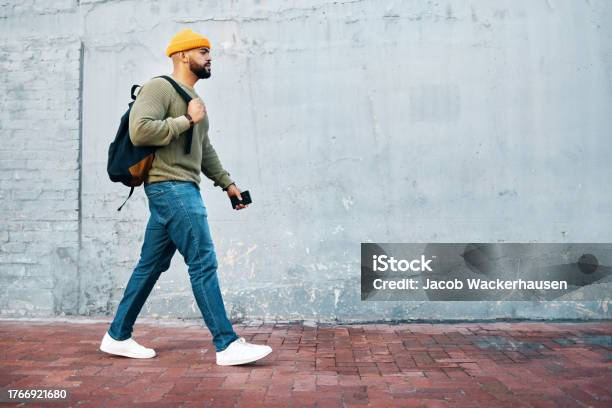person: (95, 18, 275, 368)
